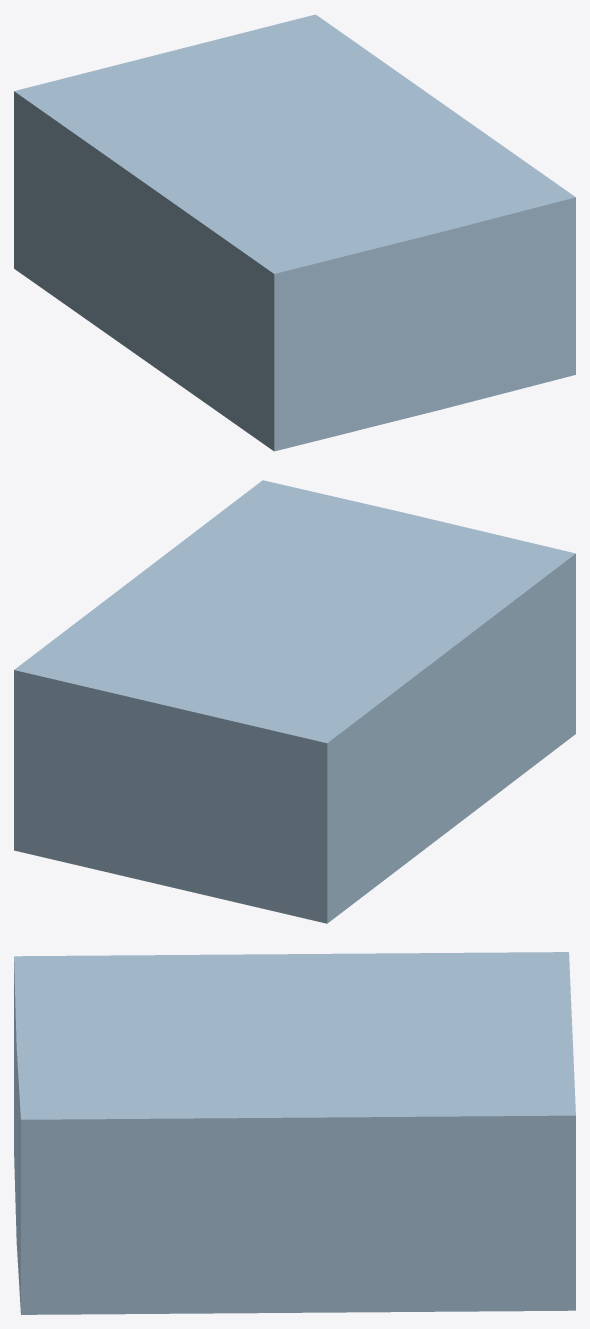
Rendered from osm_way_224940517.glb.
3 views of the same model, one above another, from view 1: azimuth 30°, elevation 25°; view 2: azimuth 150°, elevation 25°; view 3: azimuth 270°, elevation 25° (orthographic). The views are drawn at different scales.
Visible parts, largest first — view 1: osm_way_224940517; view 2: osm_way_224940517; view 3: osm_way_224940517.
Boxes of the visible parts, x1=… form: osm_way_224940517: x1=14, y1=14, x2=575, y2=451; osm_way_224940517: x1=14, y1=480, x2=575, y2=923; osm_way_224940517: x1=14, y1=952, x2=575, y2=1314.
Bounding box in the file's own units: 7.37 × 4 × 10.44.
